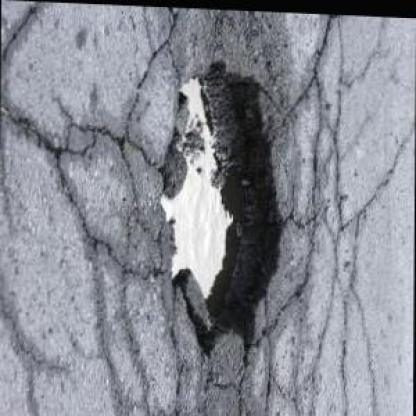pothole: (151, 56, 293, 359)
